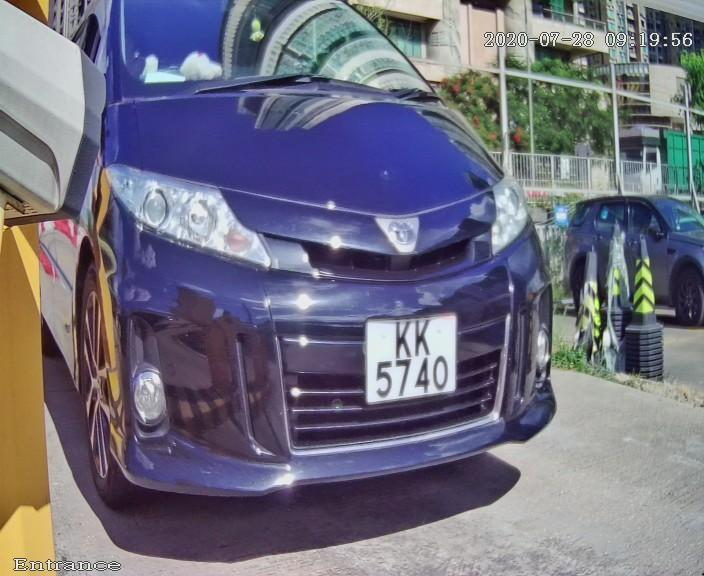privatecar: (23, 8, 626, 566)
